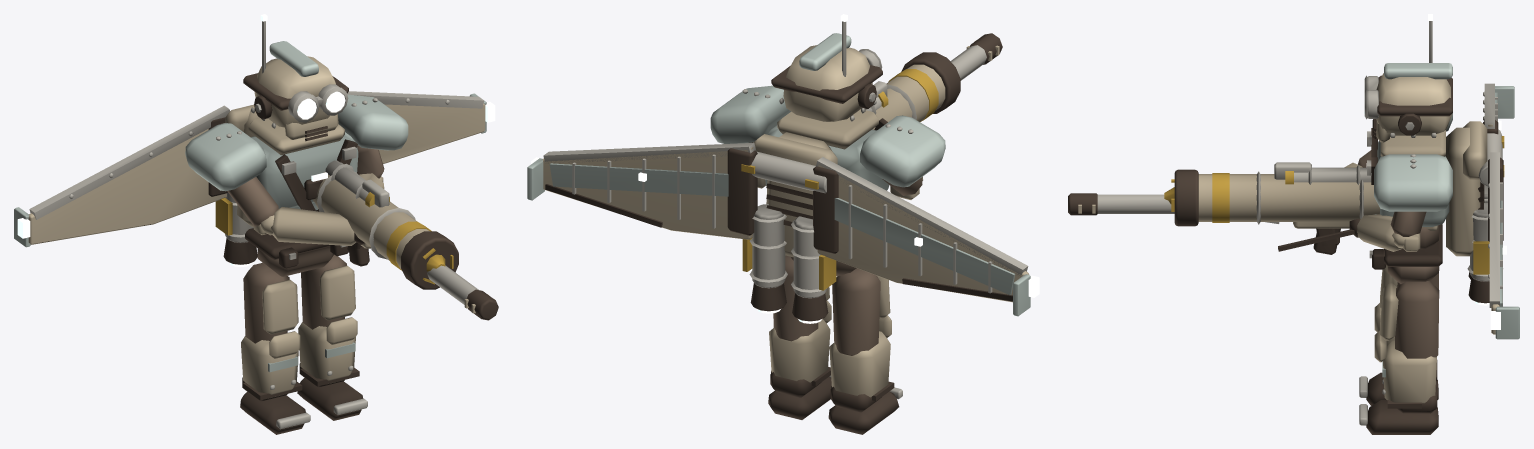
File: skywing.glb
3 renders of one model, left to right at view 1: azimuth 30°, elevation 25°; view 2: azimuth 150°, elevation 25°; view 3: azimuth 270°, elevation 25°, orthographic. The views are drawn at different scales.
Parts seen in each view (by area): view 1: Chest, Wing, Shin, Shin.001, Wing.001, Launcher, Gear, Arm_armor, Wing_spar, Helmet, Armor, Arm_suit (+20 smaller); view 2: Chest, Wing.001, Wing, Wing_stripe, Wing_stripe.001, Thruster, Helmet, Leg_suit, Shin, Pack, Shin.001, Wing_spar (+22 smaller); view 3: Launcher, Chest, Pack, Shin.001, Leg_suit.001, Helmet, Rifle_steel, Gear, Boot.001, Wing_spar.001, Launcher_dark, Arm_armor (+20 smaller).
Boxes of the visible parts, x1,y1,x2,y2 form: Chest: (185, 94, 408, 210); Wing: (28, 129, 226, 244); Shin: (241, 279, 300, 396); Shin.001: (298, 265, 357, 383); Wing.001: (379, 103, 485, 163); Launcher: (312, 171, 429, 269); Gear: (245, 79, 357, 268); Arm_armor: (253, 173, 384, 245); Wing_spar: (29, 105, 229, 219); Helmet: (254, 56, 335, 127); Armor: (248, 114, 344, 155); Arm_suit: (227, 145, 384, 226); Chest: (710, 85, 945, 190); Wing.001: (542, 147, 753, 239); Wing: (817, 164, 1029, 302); Wing_stripe: (834, 198, 1030, 316); Wing_stripe.001: (527, 158, 728, 200); Thruster: (752, 204, 826, 298); Helmet: (783, 45, 872, 121); Leg_suit: (832, 268, 880, 355); Shin: (829, 275, 891, 397); Pack: (753, 132, 837, 257); Shin.001: (769, 287, 831, 382); Wing_spar: (815, 157, 1028, 276); Launcher: (1198, 174, 1379, 221); Chest: (1374, 113, 1452, 226); Pack: (1446, 121, 1487, 256); Shin.001: (1374, 283, 1436, 403); Leg_suit.001: (1395, 281, 1439, 358); Helmet: (1376, 73, 1452, 135); Rifle_steel: (1097, 165, 1371, 223); Gear: (1371, 113, 1484, 269); Boot.001: (1366, 386, 1438, 434); Wing_spar.001: (1489, 152, 1499, 307); Launcher_dark: (1174, 169, 1339, 246); Arm_armor: (1344, 162, 1420, 251).
Bounding box in the file's own units: 3.15 × 2.5 × 2.63.
